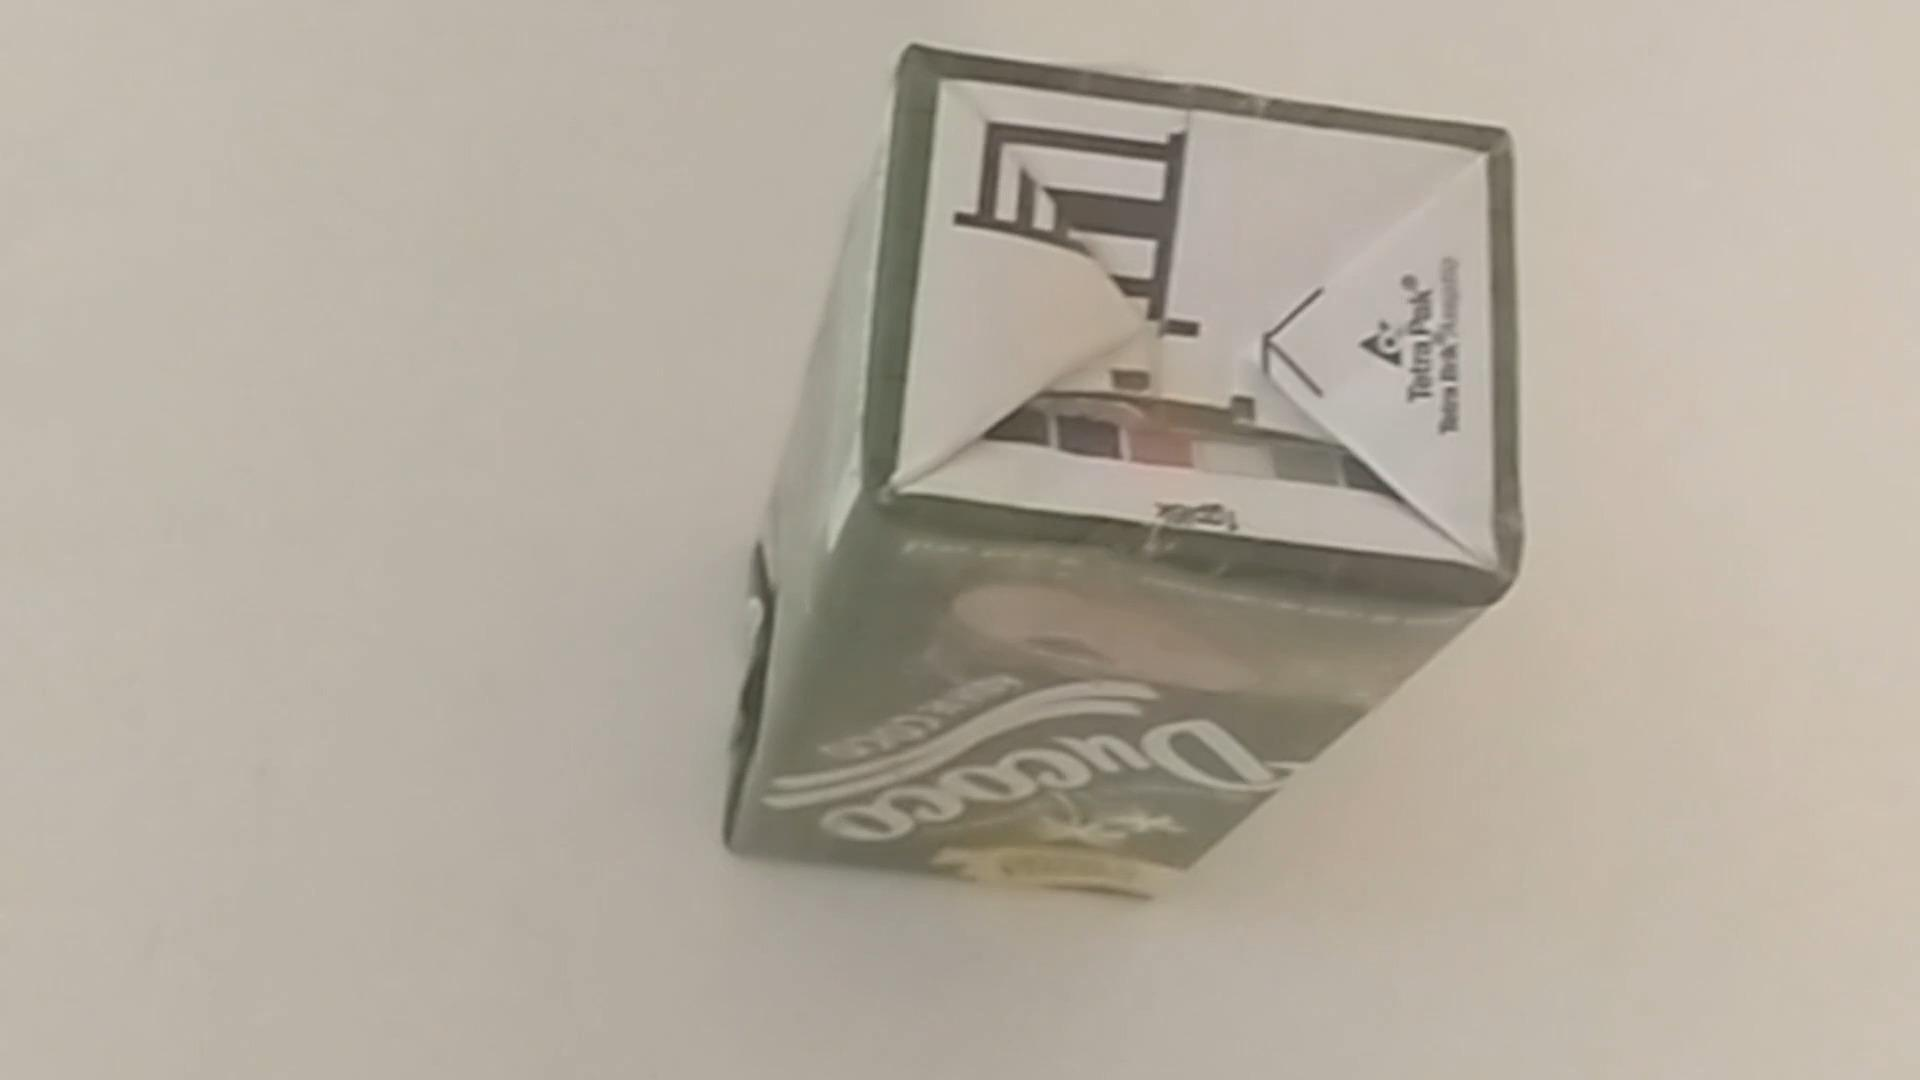coco: (723, 47, 1519, 897)
